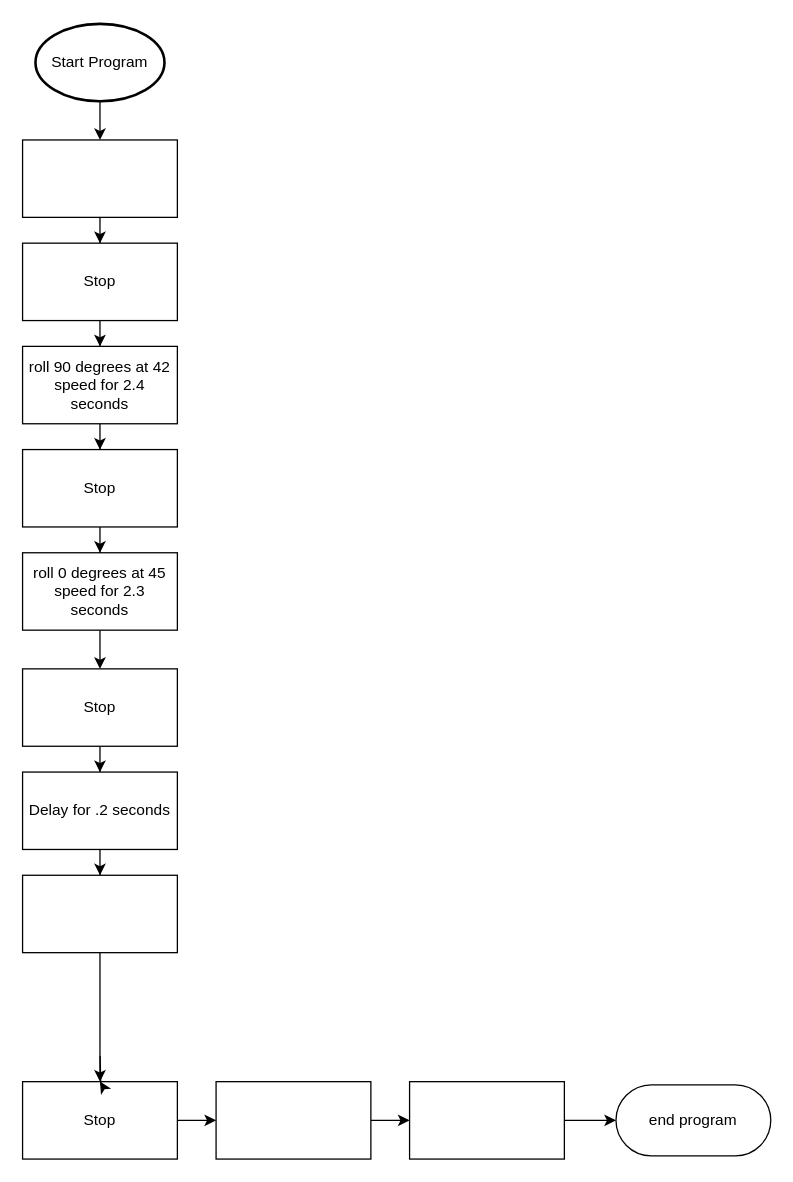
The diagram is 793 pixels wide and 1182 high, and some of its shapes have lost their labels. Each missing label, with the box of its shape:
Delay for 1 second: (215, 1080, 371, 1159)
roll 0 degrees at 42 speed for 2.3 seconds: (21, 139, 177, 217)
roll 225 degrees at 89 speed for 7 seconds: (408, 1080, 564, 1159)
roll 90 degrees at 170 speed for 1.5 seconds: (21, 874, 177, 953)
